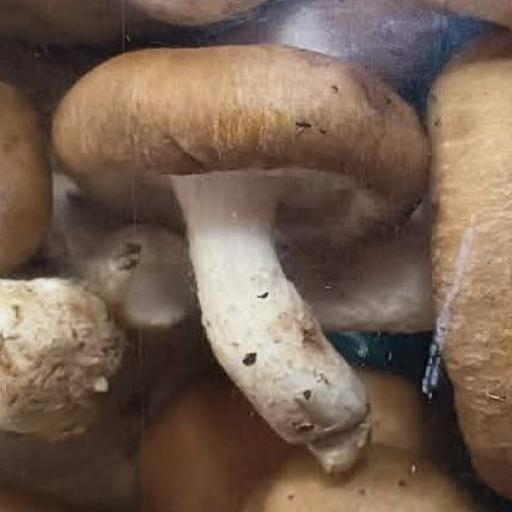Shiitake Mushroom: (40, 44, 443, 483)
